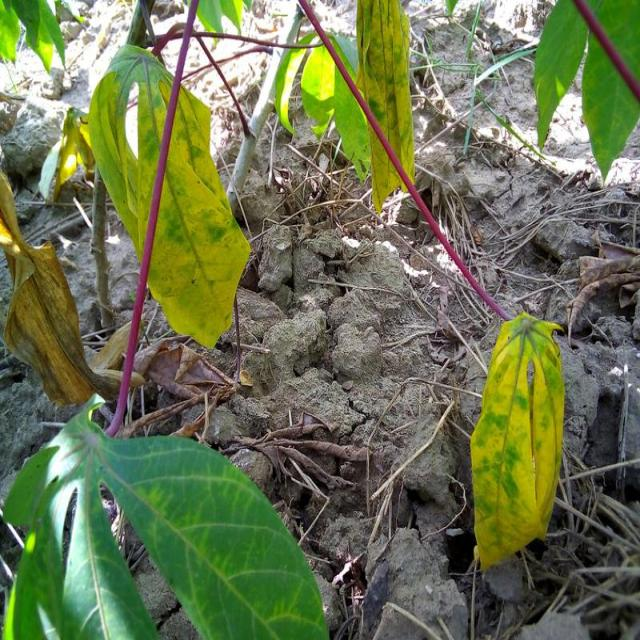cassava leaf: (2, 391, 330, 638), (86, 41, 252, 350), (468, 310, 566, 572), (352, 0, 415, 214)
